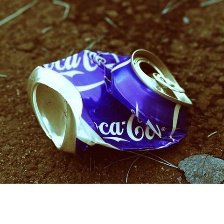can: (23, 46, 198, 163)
